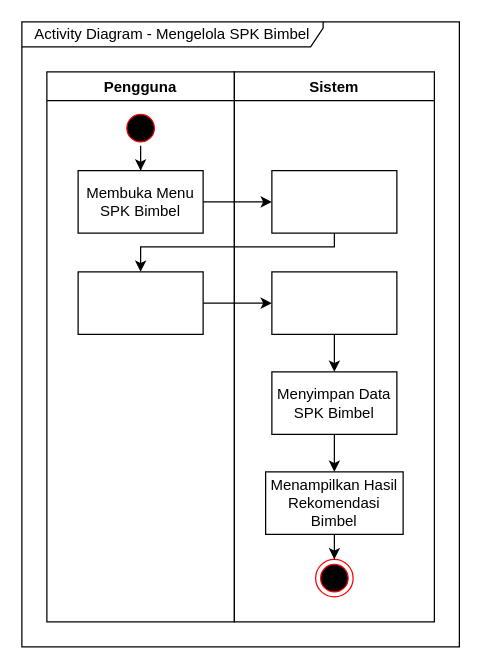
This 481x669 diagram has some shape labels left out. The centre of each missing label's shape, as x and y in pixels:
Memproses Data SPK Bimbel: point 334,302
Menampilkan Halaman SPK Bimbel: point 334,201
Tambah / Ubah / Hapus Data SPK Bimbel: point 140,302
